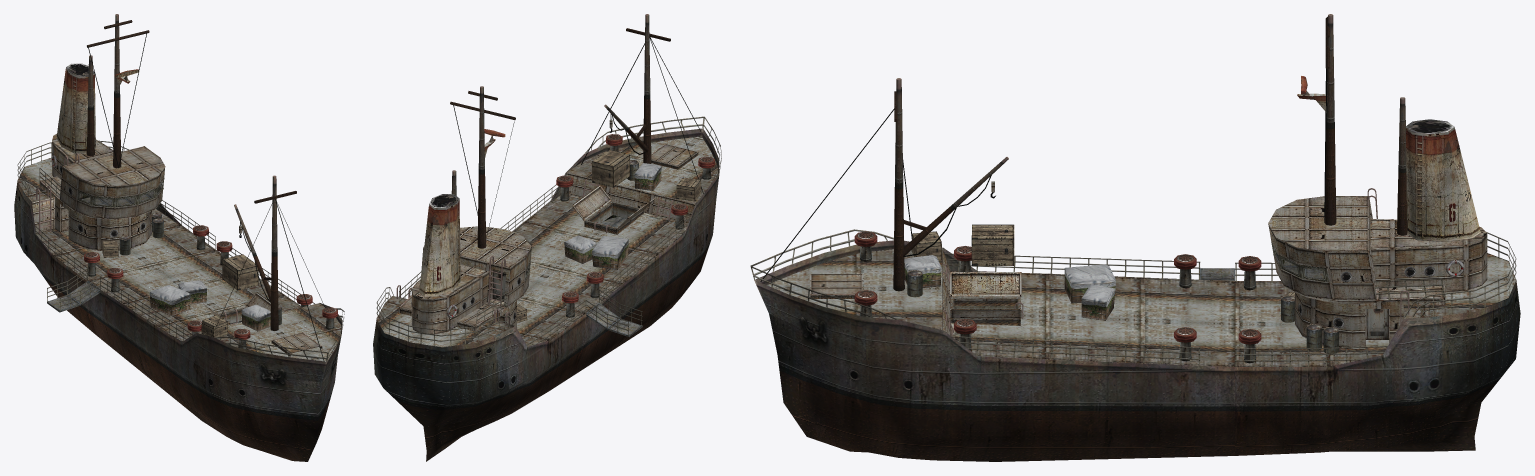
The model's file is Ship01x.glb.
3 renders of one model, left to right at view 1: azimuth 30°, elevation 25°; view 2: azimuth 150°, elevation 25°; view 3: azimuth 270°, elevation 25°, orthographic. The views are drawn at different scales.
Visible parts, largest first — view 1: _Ship01x; view 2: _Ship01x; view 3: _Ship01x.
Part boxes in pixels (<box>): _Ship01x: <box>14,14,344,461</box>; _Ship01x: <box>373,14,721,461</box>; _Ship01x: <box>750,14,1520,461</box>.
Bounding box in the file's own units: 17.44 × 31.28 × 50.03.
7 materials, 7 textured.
